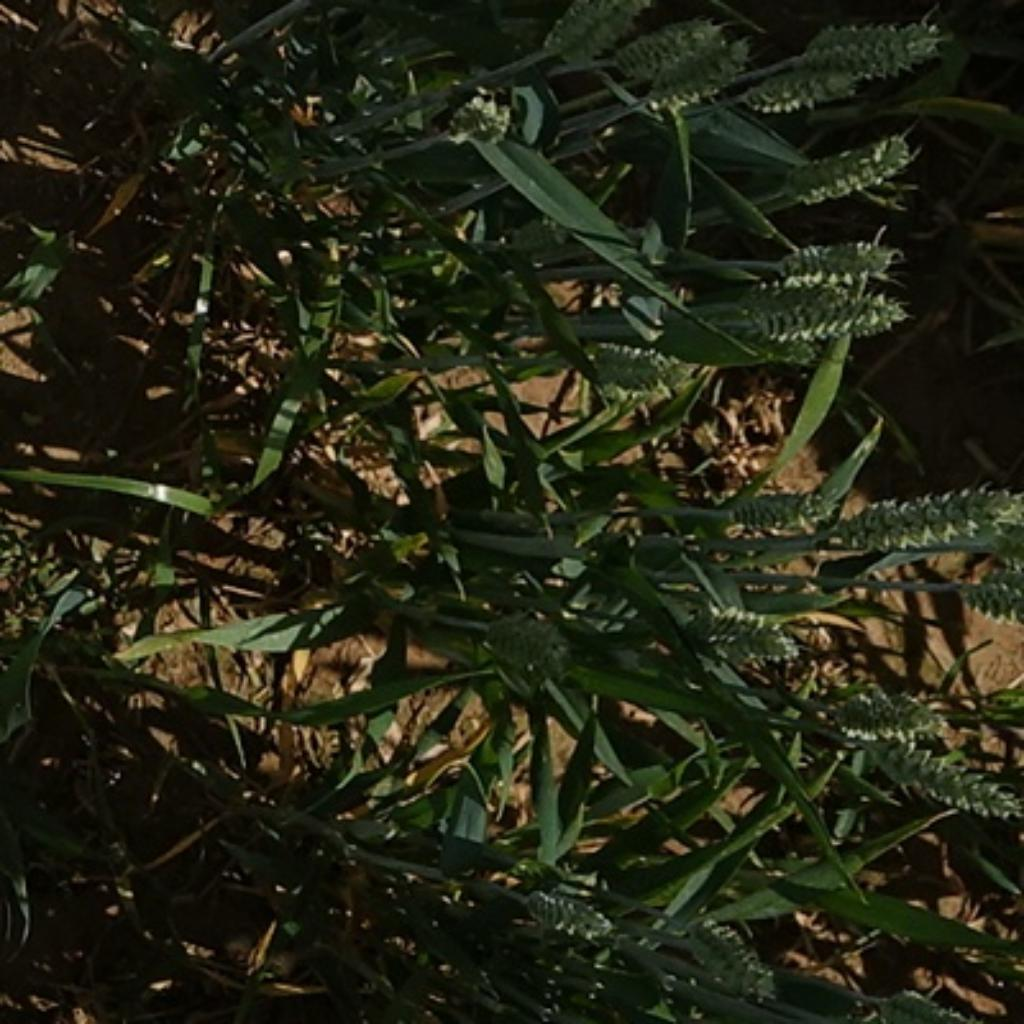0-0: (821, 473, 1024, 558), (847, 736, 1023, 821), (744, 294, 908, 376), (698, 592, 838, 674), (773, 128, 921, 204), (670, 901, 778, 998), (791, 12, 939, 79), (473, 604, 576, 688), (642, 40, 752, 117), (512, 872, 619, 949), (578, 327, 686, 401), (826, 683, 949, 746), (711, 478, 837, 537), (545, 0, 665, 58), (750, 51, 862, 112), (780, 235, 919, 284), (435, 79, 522, 148), (483, 204, 583, 261), (737, 271, 875, 312), (871, 980, 988, 1024), (959, 546, 1024, 623), (622, 20, 724, 69)
